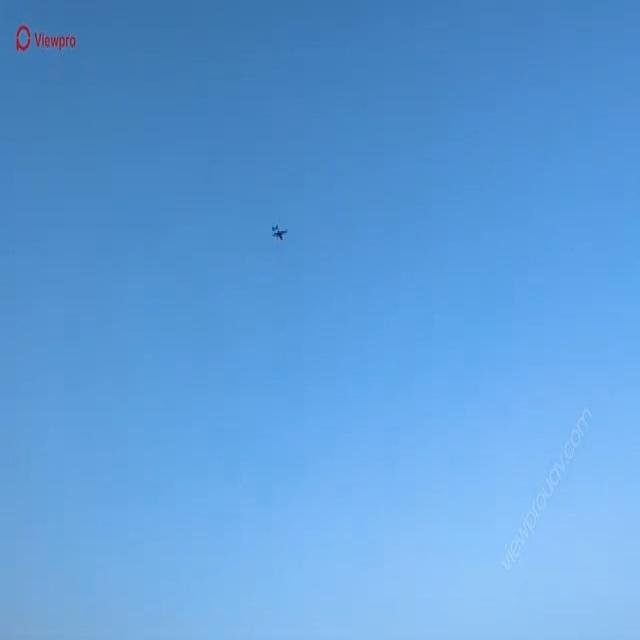drones: (268, 214, 290, 250)
